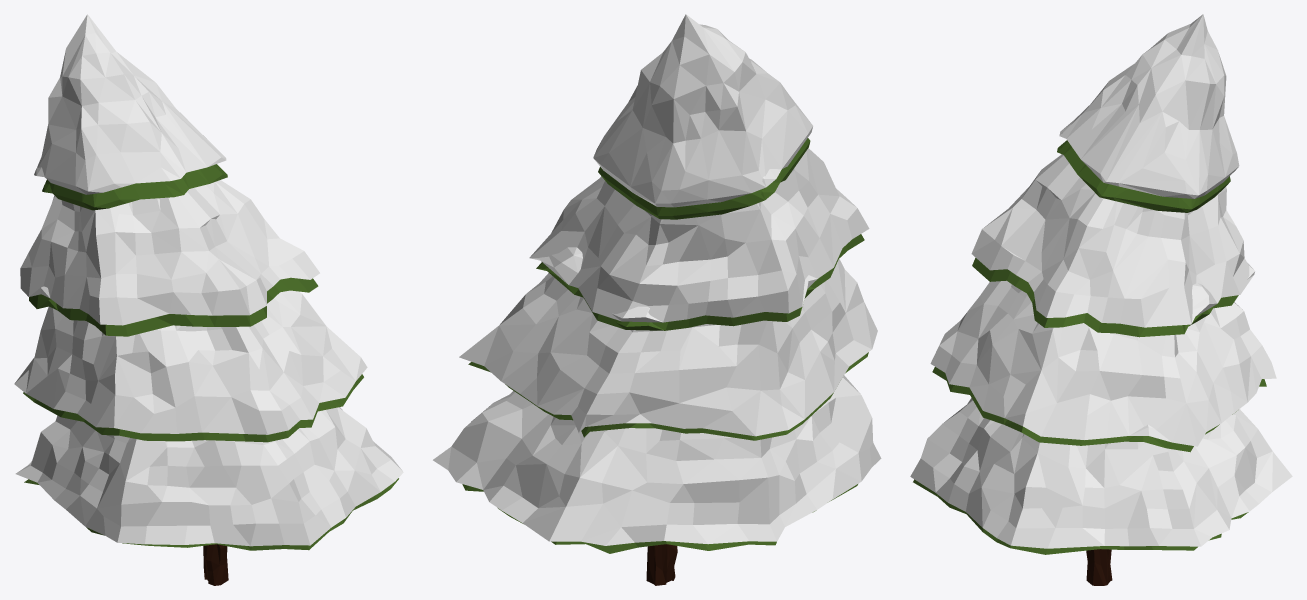
The model's file is Arbol Nevado 1.fbx.
3 renders of one model, left to right at view 1: azimuth 30°, elevation 25°; view 2: azimuth 150°, elevation 25°; view 3: azimuth 270°, elevation 25°, orthographic. The views are drawn at different scales.
Visible parts, largest first — view 1: Arbol nevado 1_LOD0; view 2: Arbol nevado 1_LOD0; view 3: Arbol nevado 1_LOD0.
Part boxes in pixels (box(x1,y1,x2,y2)): Arbol nevado 1_LOD0: box(14, 14, 403, 585); Arbol nevado 1_LOD0: box(433, 14, 881, 585); Arbol nevado 1_LOD0: box(910, 14, 1292, 585).
Size of what is drawn, in the model's own units: 180 by 307 by 200.
